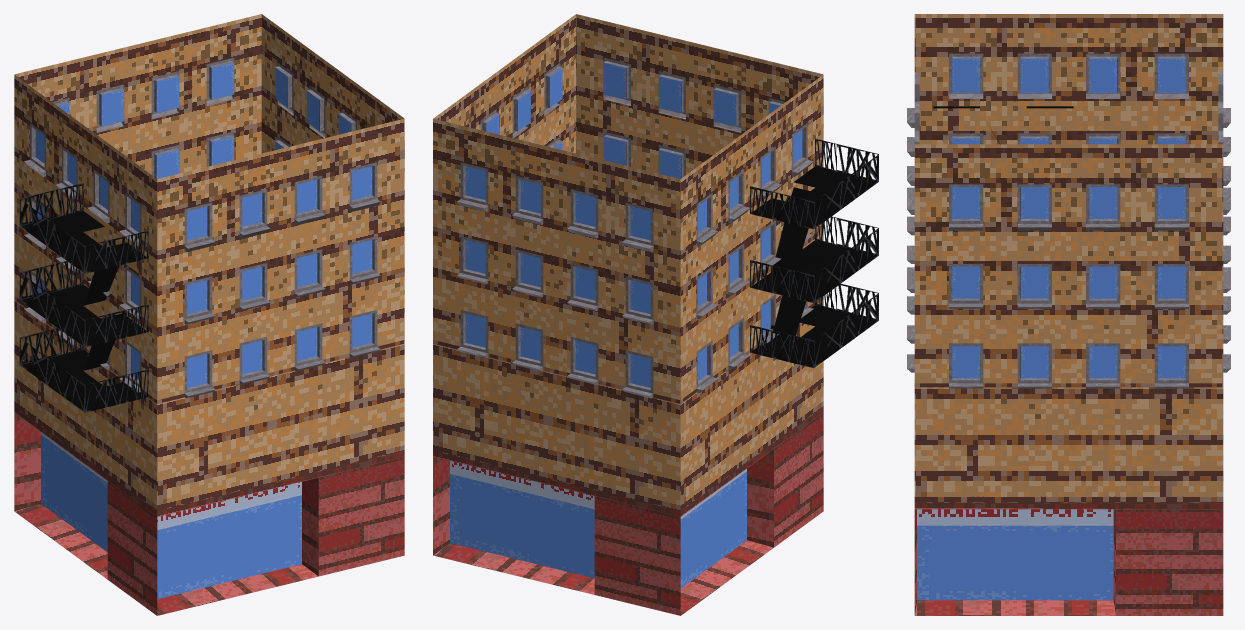
The model's file is ApartmentMerge.glb.
3 views of the same model, side by side, from view 1: azimuth 30°, elevation 25°; view 2: azimuth 150°, elevation 25°; view 3: azimuth 270°, elevation 25° (orthographic). The views are drawn at different scales.
Parts seen in each view (by area): view 1: Cube.001, Cube.002, Cube, Cube.003; view 2: Cube.001, Cube.002, Cube, Cube.003; view 3: Cube.001.
Boxes of the visible parts, x1,y1,x2,y2 form: Cube.001: (14, 14, 404, 615); Cube.002: (19, 261, 148, 347); Cube: (19, 312, 148, 412); Cube.003: (19, 183, 148, 273); Cube.001: (433, 14, 823, 615); Cube.002: (750, 187, 878, 303); Cube: (750, 254, 878, 368); Cube.003: (750, 138, 878, 229); Cube.001: (907, 14, 1230, 615).
Bounding box in the file's own units: 4.83 × 6.36 × 3.96.
Materials: 5 (5 with a texture image).
